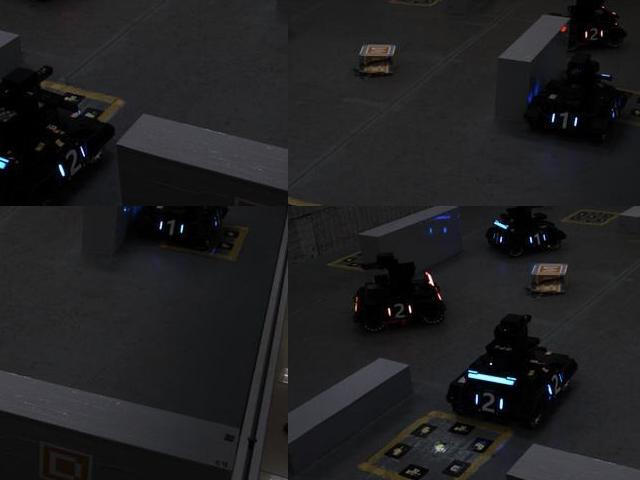armor: (54, 142, 91, 184), (471, 387, 507, 419), (537, 368, 568, 403), (546, 106, 583, 134), (378, 300, 419, 323), (154, 216, 187, 240), (577, 24, 608, 44)
